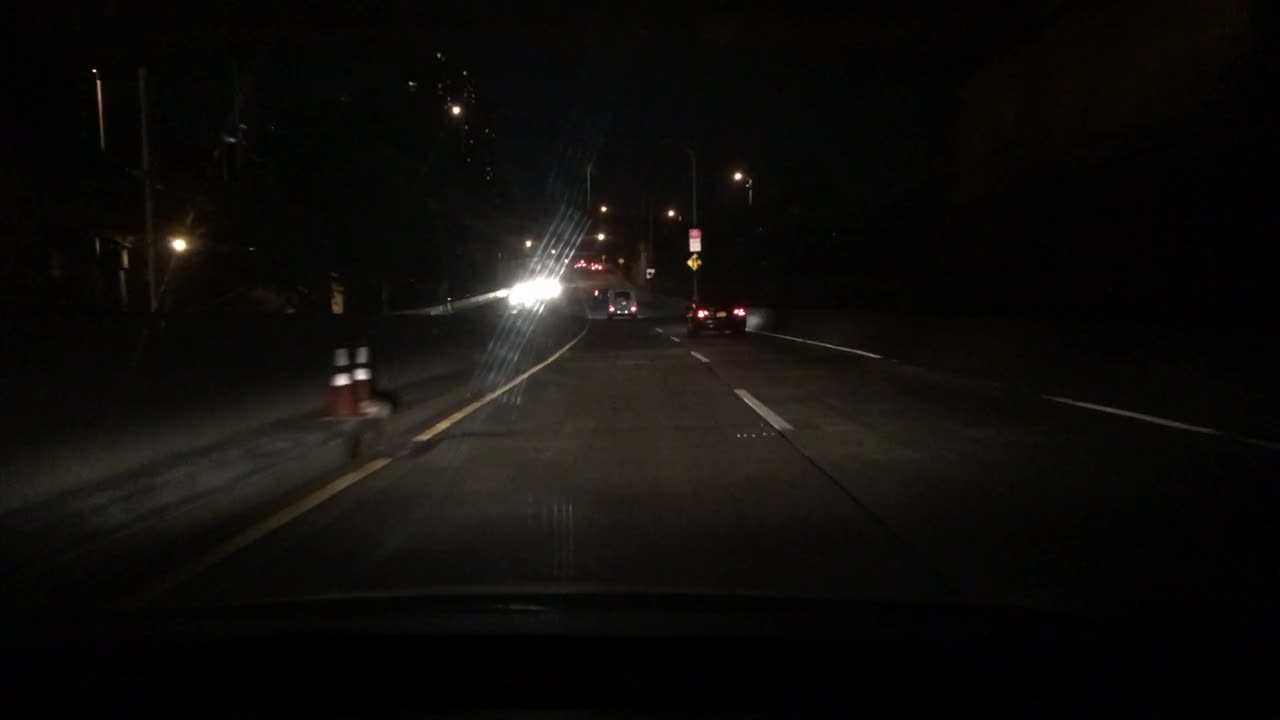car: (685, 287, 747, 338), (516, 275, 564, 303), (605, 286, 639, 320), (587, 256, 605, 272), (592, 287, 608, 302), (573, 256, 586, 271)
traffic sign: (328, 281, 345, 316), (688, 227, 702, 251), (685, 255, 702, 270), (616, 254, 626, 266)
